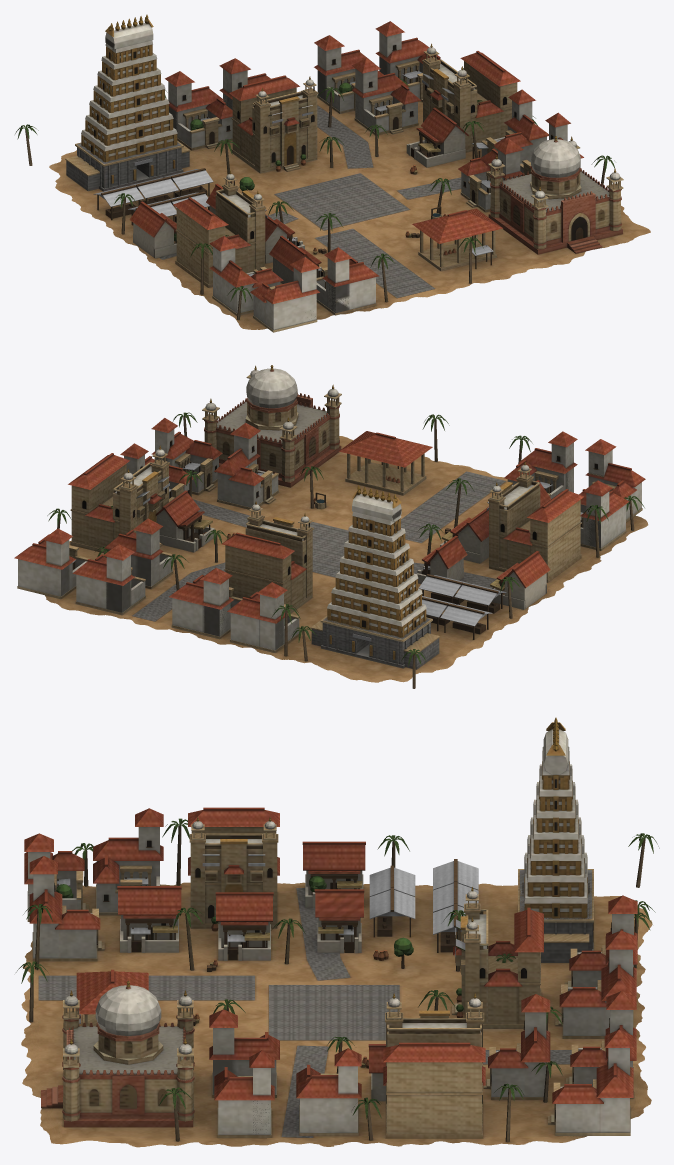
Rendered from kingdoms-town-medium-b-indic.glb.
3 renders of one model, top to bottom at view 1: azimuth 30°, elevation 25°; view 2: azimuth 150°, elevation 25°; view 3: azimuth 270°, elevation 25°, orthographic. The views are drawn at different scales.
Parts seen in each view (by area): view 1: LOD0; view 2: LOD0; view 3: LOD0.
Part boxes in pixels (x1,y1,x2,y2): LOD0: (15, 14, 650, 332); LOD0: (14, 365, 648, 688); LOD0: (16, 717, 659, 1147).
Size of what is drawn, in the model's own units: 6.11 by 2.14 by 6.12.
Materials: 3 (3 with a texture image).
